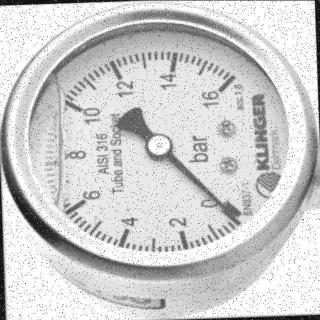gauge: (0, 0, 320, 281), (212, 191, 244, 227), (202, 75, 235, 107), (145, 133, 173, 159), (226, 212, 244, 229)
